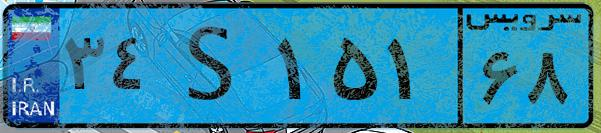1: (270, 28, 330, 110), (385, 28, 445, 110)
3: (57, 26, 110, 100)
4: (110, 28, 158, 98)
5: (330, 28, 385, 110)
6: (475, 38, 525, 113)
8: (525, 38, 570, 115)
S: (158, 12, 270, 120)
